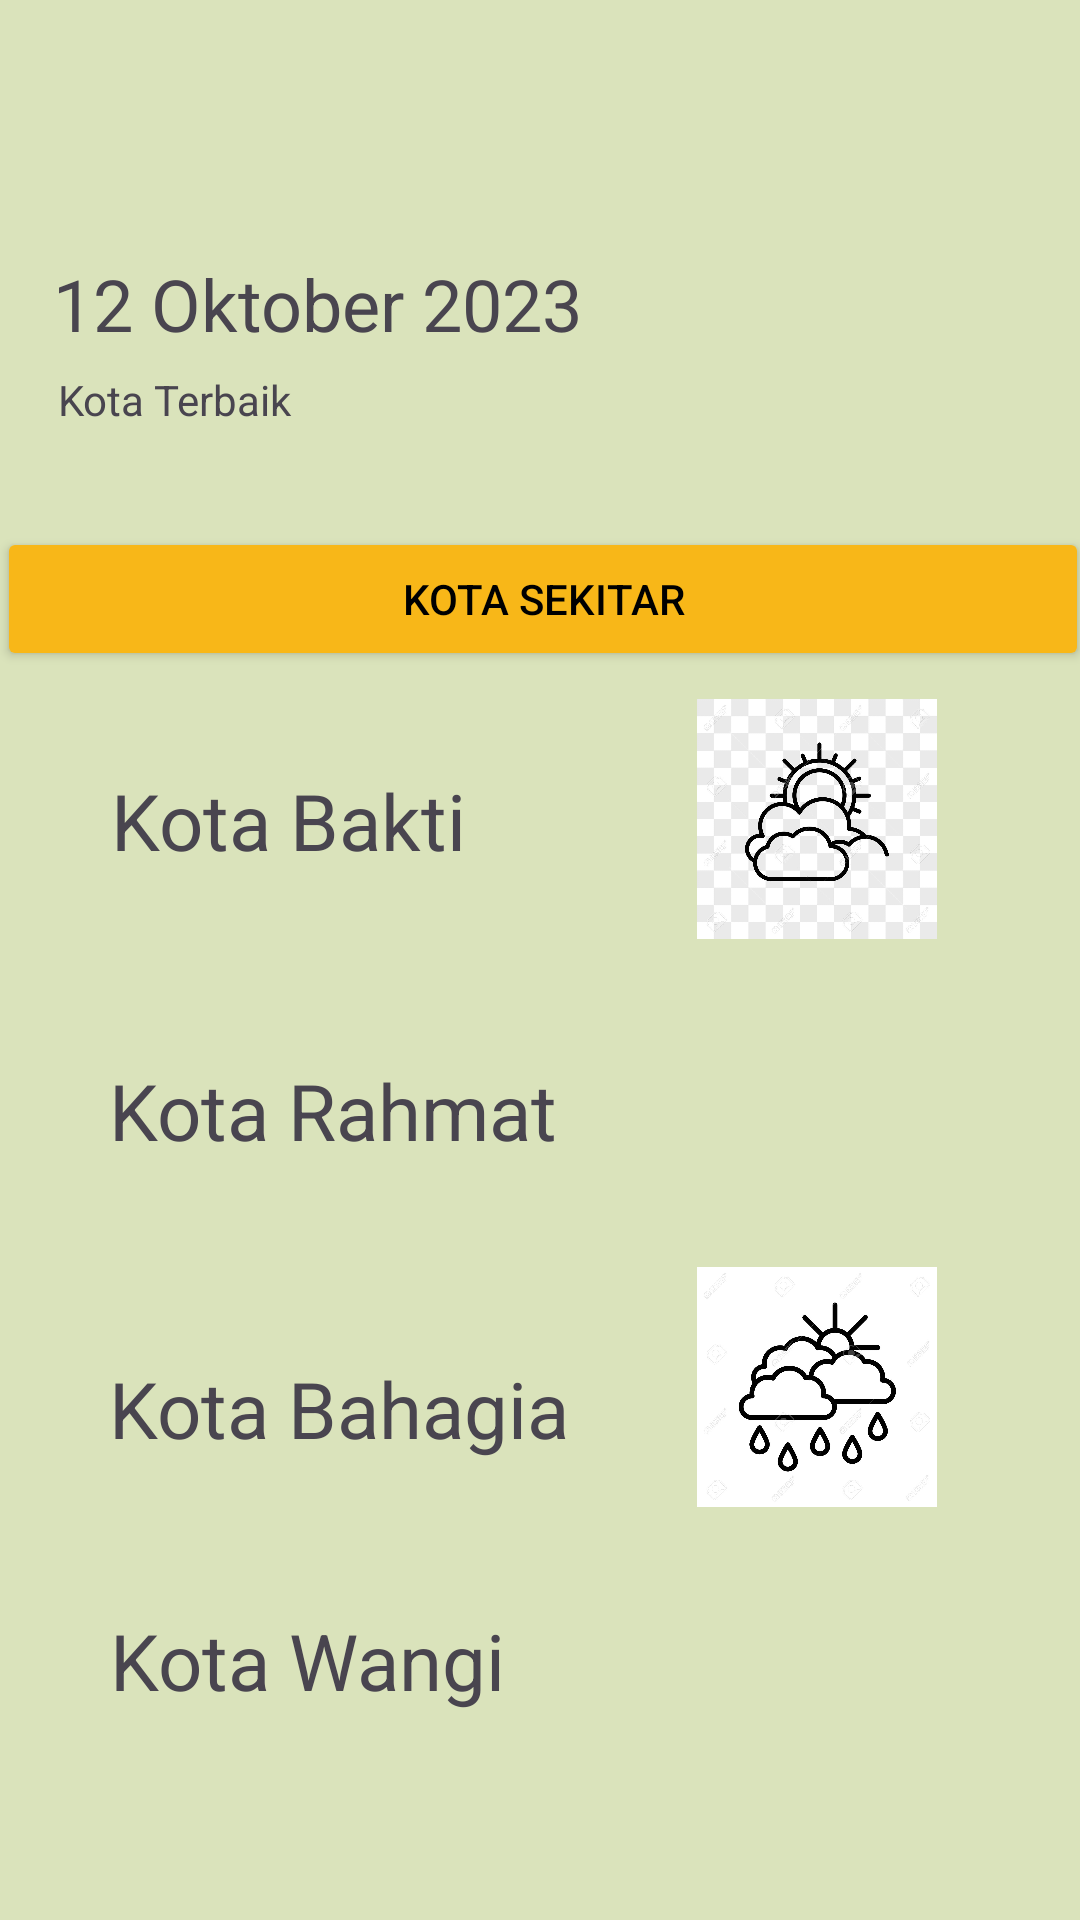

Icon click points for this 1080px×1920px phone screenshot, format (x,y):
weather: (817,819), (817,1387)
